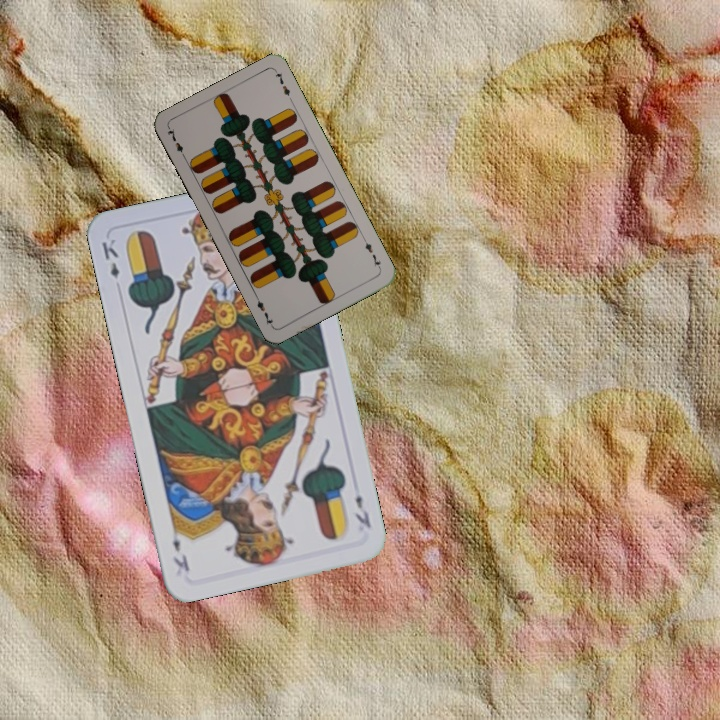E7: (163, 124, 188, 162), (360, 234, 384, 272)
EK: (97, 234, 122, 281), (351, 490, 374, 531)
